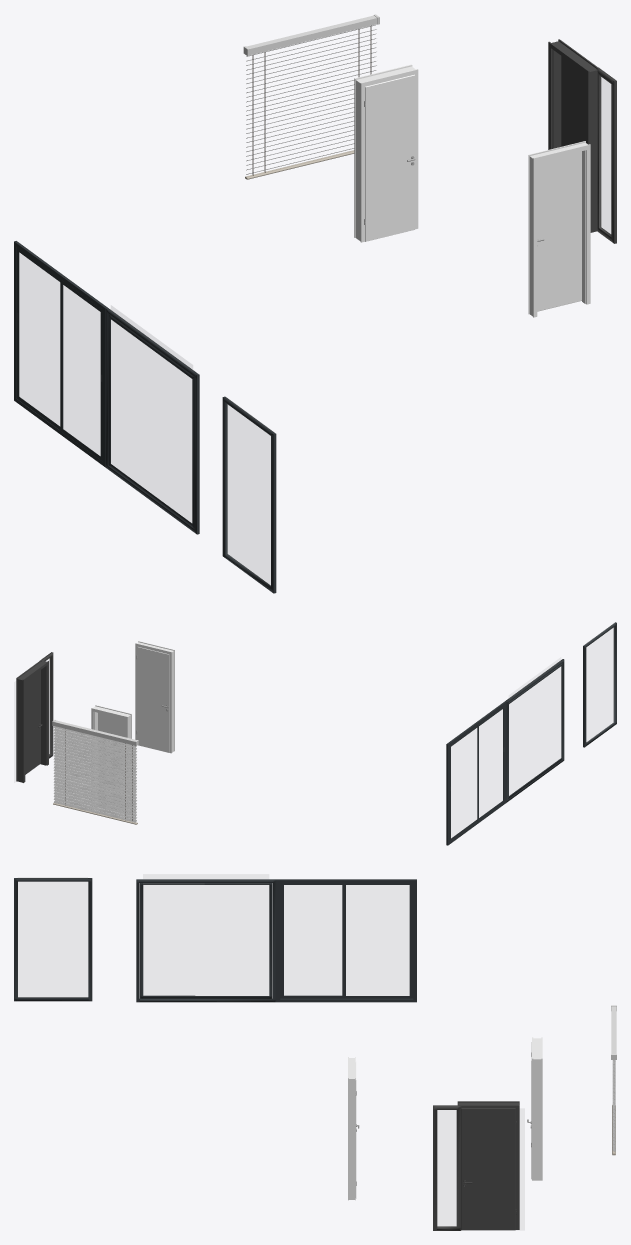
The model's file is Türen.glb.
3 renders of one model, top to bottom at view 1: azimuth 30°, elevation 25°; view 2: azimuth 150°, elevation 25°; view 3: azimuth 270°, elevation 25°, orthographic. The views are drawn at different scales.
Visible parts, largest first — view 1: Cut-Office.032, cage_Cube.001, Door.013, Door.014, Cut_KücheTerrasse.003, defaultMaterial.001, Plane.002_Door_0.001, Cut-Office.011, Cut-Office.003, Bad.008; view 2: defaultMaterial.001, cage_Cube.001, Cut-Office.032, Door.014, Plane.002_Door_0.001, Cut_KücheTerrasse.003, Cut-Office.011, Door.013, Cut-Office.003; view 3: Cut-Office.032, cage_Cube.001, Cut_KücheTerrasse.003, Plane.002_Door_0.001, Bad.008, Cut-Office.011, Door.013, Cut-Office.003, Door.014, defaultMaterial.001.
Boxes of the visible parts, x1,y1,x2,y2 form: Cut-Office.032: (105, 306, 199, 534); cage_Cube.001: (14, 241, 107, 467); Door.013: (354, 64, 418, 242); Door.014: (528, 141, 590, 317); Cut_KücheTerrasse.003: (227, 398, 271, 585); defaultMaterial.001: (243, 14, 379, 179); Plane.002_Door_0.001: (548, 39, 599, 232); Cut-Office.011: (222, 396, 276, 593); Cut-Office.003: (596, 67, 616, 243); Bad.008: (601, 77, 610, 234); defaultMaterial.001: (52, 720, 138, 824); cage_Cube.001: (446, 701, 506, 845); Cut-Office.032: (505, 658, 564, 802); Door.014: (135, 641, 174, 753); Plane.002_Door_0.001: (16, 659, 48, 782); Cut_KücheTerrasse.003: (587, 624, 613, 741); Cut-Office.011: (583, 622, 616, 747); Door.013: (91, 705, 131, 801); Cut-Office.003: (40, 652, 53, 764); Cut-Office.032: (136, 874, 276, 1002); cage_Cube.001: (276, 879, 416, 1002); Cut_KücheTerrasse.003: (18, 877, 87, 997); Plane.002_Door_0.001: (457, 1101, 519, 1230); Bad.008: (438, 1109, 524, 1229); Cut-Office.011: (14, 878, 92, 1001); Door.013: (527, 1037, 542, 1180); Cut-Office.003: (433, 1105, 461, 1230); Door.014: (348, 1057, 359, 1200); defaultMaterial.001: (611, 1005, 616, 1155).
Size of the model in its own units: 9.79 by 2.57 by 10.74.
Materials: 8 (1 with a texture image).
